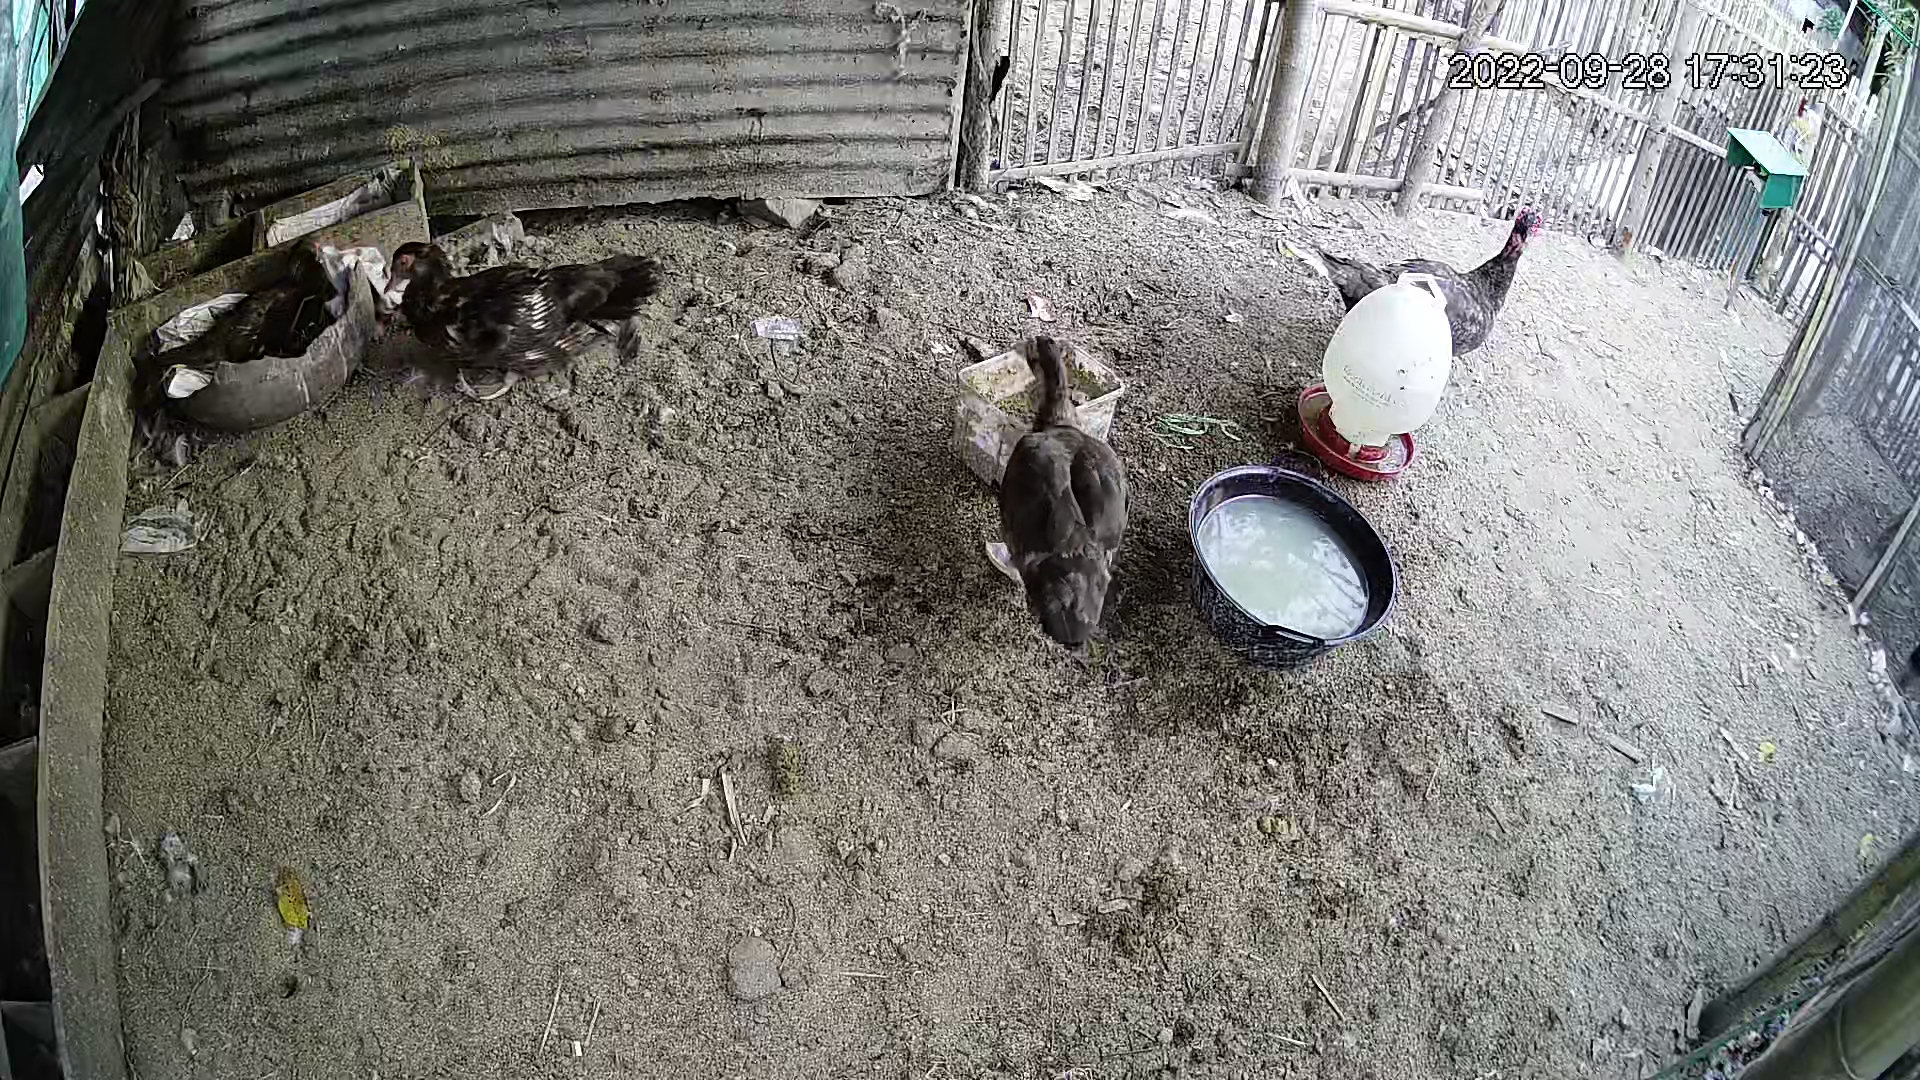Mengeram: (105, 185, 368, 419)
